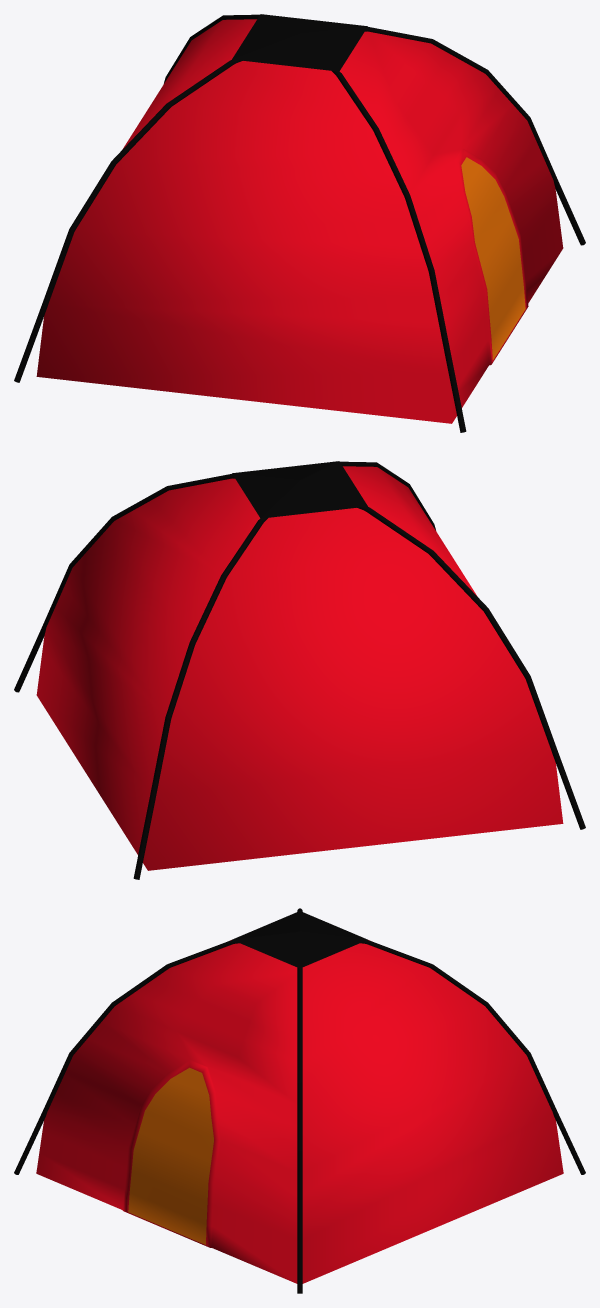
File: tienda_de_campaña.glb
The picture shows the model from 3 angles, top to bottom: view 1: azimuth 30°, elevation 25°; view 2: azimuth 150°, elevation 25°; view 3: azimuth 270°, elevation 25°; orthographic projection. The views are drawn at different scales.
Visible parts, largest first — view 1: Sphere, Sphere.001, Sphere.002; view 2: Sphere, Sphere.001, Sphere.002; view 3: Sphere, Sphere.001, Sphere.002.
Part boxes in pixels (x1,y1,x2,y2): Sphere: [36, 19, 563, 423]; Sphere.001: [14, 14, 585, 432]; Sphere.002: [232, 14, 367, 71]; Sphere: [36, 466, 563, 870]; Sphere.001: [14, 461, 585, 879]; Sphere.002: [232, 461, 367, 518]; Sphere: [36, 940, 563, 1283]; Sphere.001: [14, 908, 585, 1293]; Sphere.002: [232, 911, 367, 968].
Bounding box in the file's own units: 2.17 × 1.02 × 2.17.
